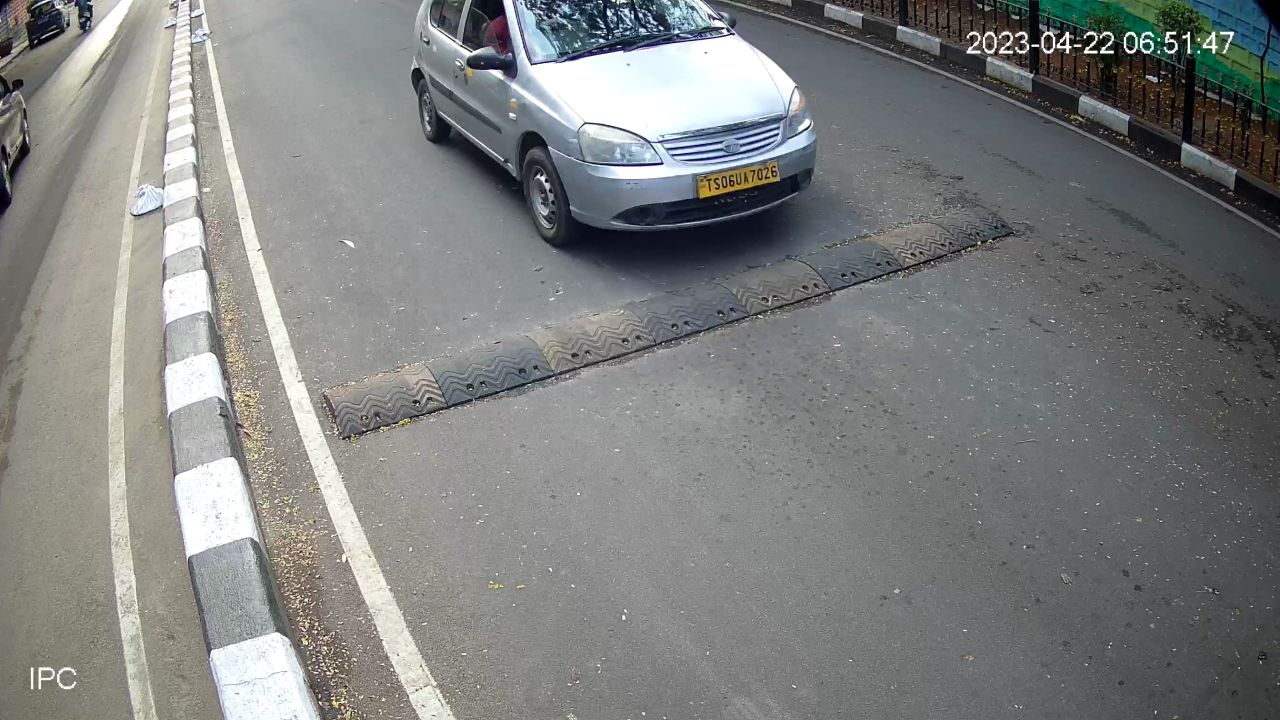license_plate: (691, 156, 785, 203)
